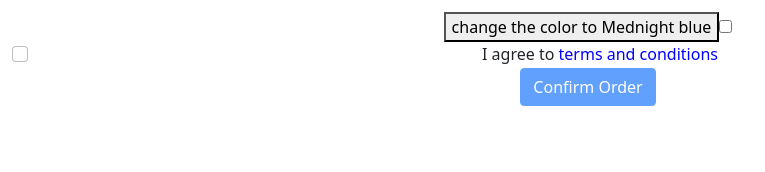
Test: Verify the color & state of the Medium Violet Red button
Click the button "change the color to Mednight blue" at (582, 27), box [444,12,719,42]
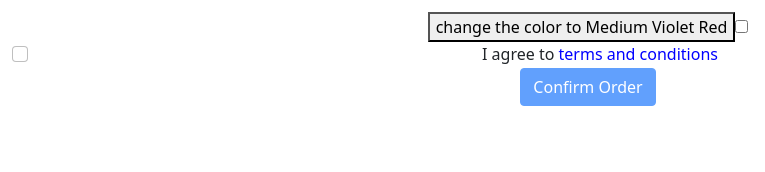
Check: the button named "change the color to Mednight blue" reads "change the color to Medium Violet Red", box [428,12,735,42]
